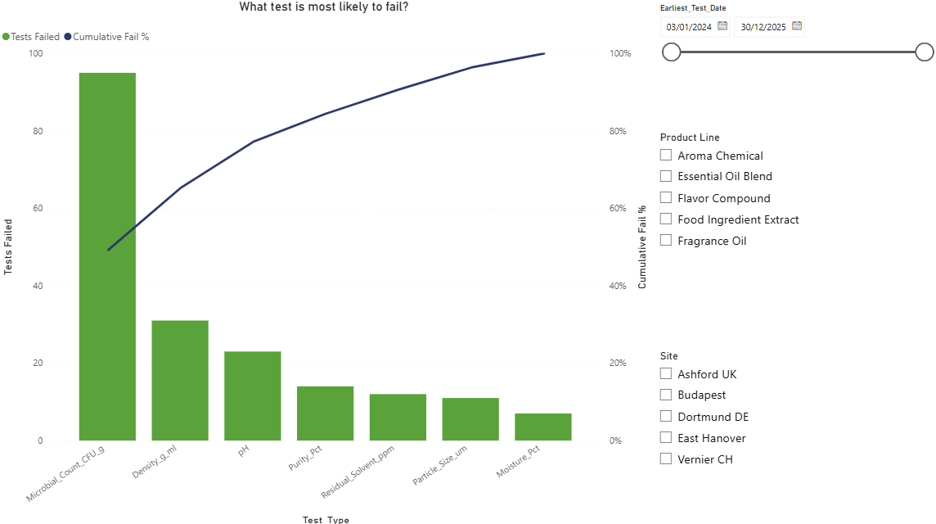

Layout of this report page (visuals, bound fields, positions):
{"tool":"powerbi","page":{"name":"Page 3","canvas":[1280,720],"ordinal":2},"visuals":[{"type":"lineClusteredColumnComboChart","title":"What test is most likely to fail?","fields":{"Category":["Test_level_table.Test_Type"],"Y":["Test_level_table.Tests Failed"],"Y2":["Test_level_table.Cumulative Fail %"]},"box":[0,0,886.7,720],"z":0},{"type":"slicer","fields":{"Values":["Batch_level_table.Earliest_Test_Date"]},"box":[886.7,0,393.3,141.7],"z":1000},{"type":"slicer","fields":{"Values":["Batch_level_table.Site"]},"box":[886,470,394,174],"z":2000},{"type":"slicer","fields":{"Values":["Batch_level_table.Product Line"]},"box":[886,174,394,186],"z":3000}]}

Visuals, with their boxes in screenshot pixels (x1, y1, x2, y2), scaled from the page's 1280x720 canvas onto the 936x524 screenshot:
"What test is most likely to fail?" lineClusteredColumnComboChart: rect(0, 0, 648, 523)
slicer - Batch_level_table.Earliest_Test_Date: rect(648, 0, 935, 103)
slicer - Batch_level_table.Site: rect(648, 342, 935, 469)
slicer - Batch_level_table.Product Line: rect(648, 127, 935, 262)
